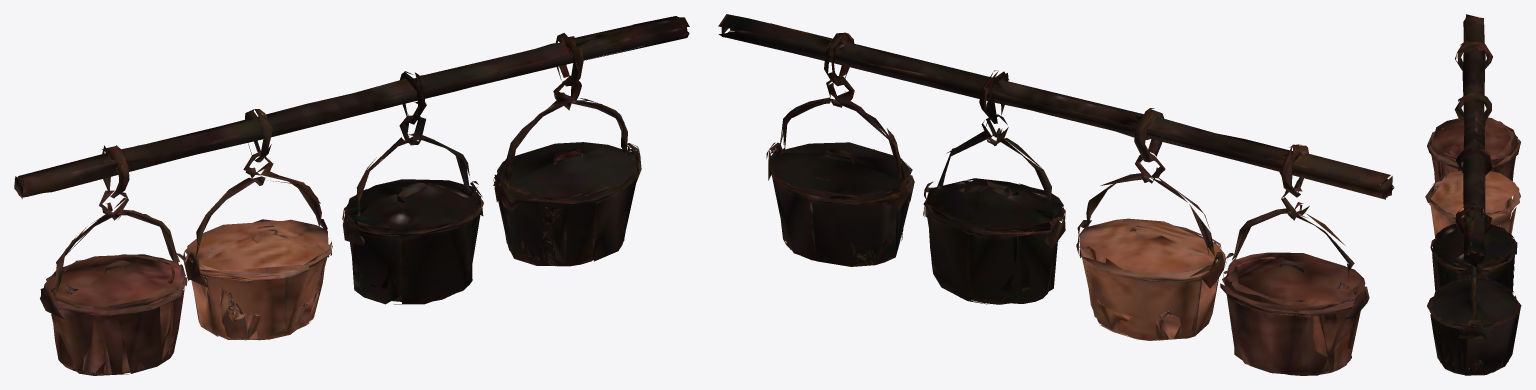
The model's file is ollas_colgadas.movil.glb.
3 views of the same model, side by side, from view 1: azimuth 30°, elevation 25°; view 2: azimuth 150°, elevation 25°; view 3: azimuth 270°, elevation 25° (orthographic). The views are drawn at different scales.
Visible parts, largest first — view 1: geometry_0; view 2: geometry_0; view 3: geometry_0.
Boxes of the visible parts, x1=… form: geometry_0: x1=14, y1=16, x2=689, y2=375; geometry_0: x1=718, y1=14, x2=1394, y2=375; geometry_0: x1=1425, y1=14, x2=1521, y2=375.
Size of the model in its own units: 1.3 by 0.3999 by 0.2218.
Materials: 1 (1 with a texture image).
